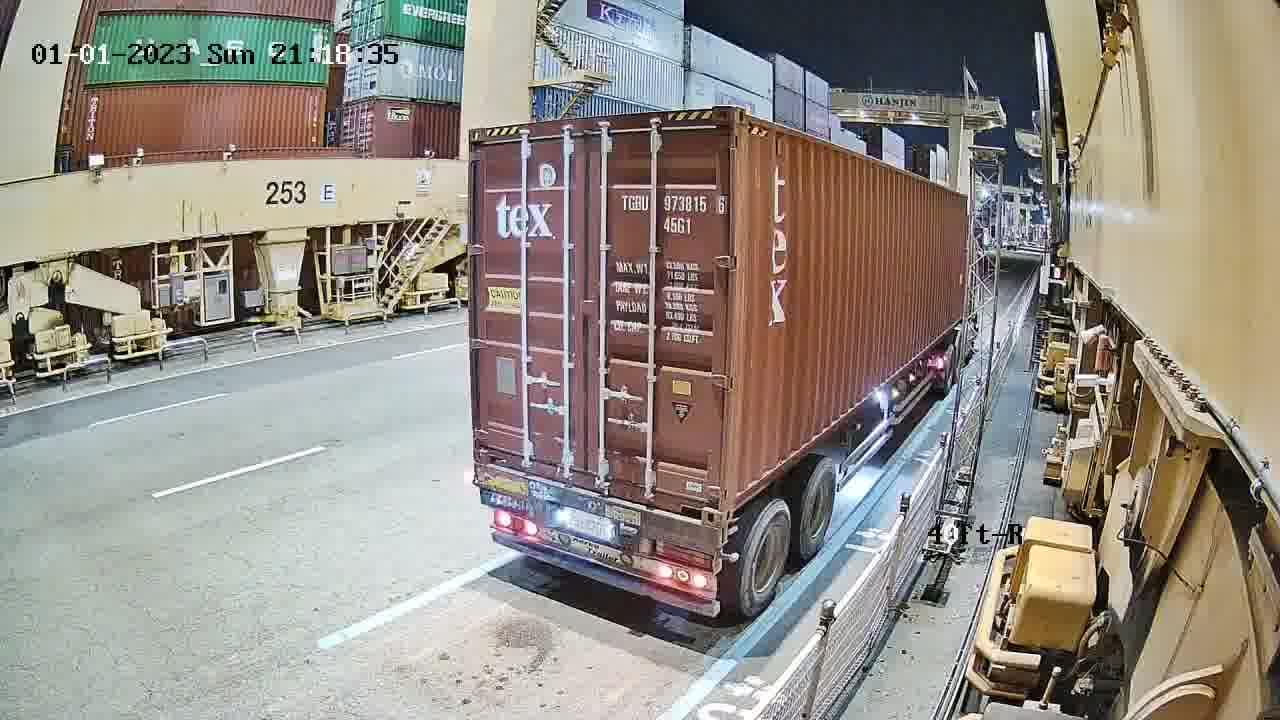Chassis: (475, 466, 718, 552)
Cone: (718, 519, 734, 551)
Hole_L: (722, 454, 756, 527), (472, 421, 504, 469)
Hole_R: (674, 460, 725, 530)
Tire: (739, 504, 794, 612), (801, 463, 836, 554)
